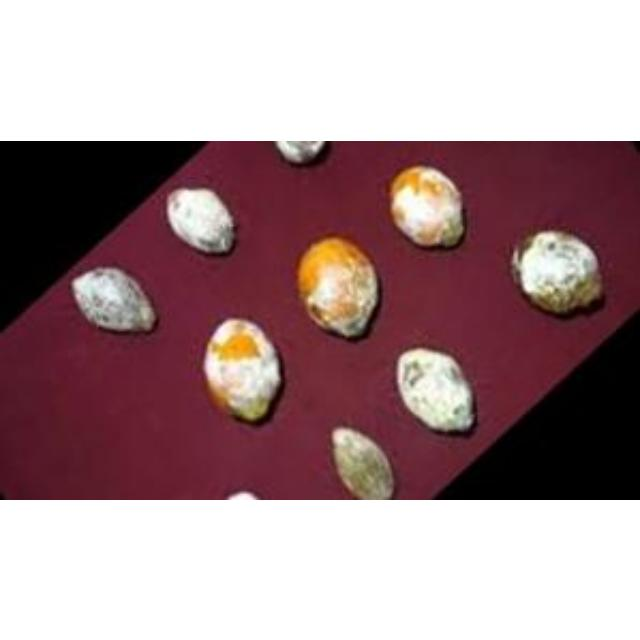damaged: (295, 233, 379, 337), (202, 318, 284, 422), (511, 228, 603, 314), (395, 346, 475, 434), (386, 164, 464, 248), (70, 264, 158, 332), (164, 184, 236, 254), (331, 428, 394, 498)
